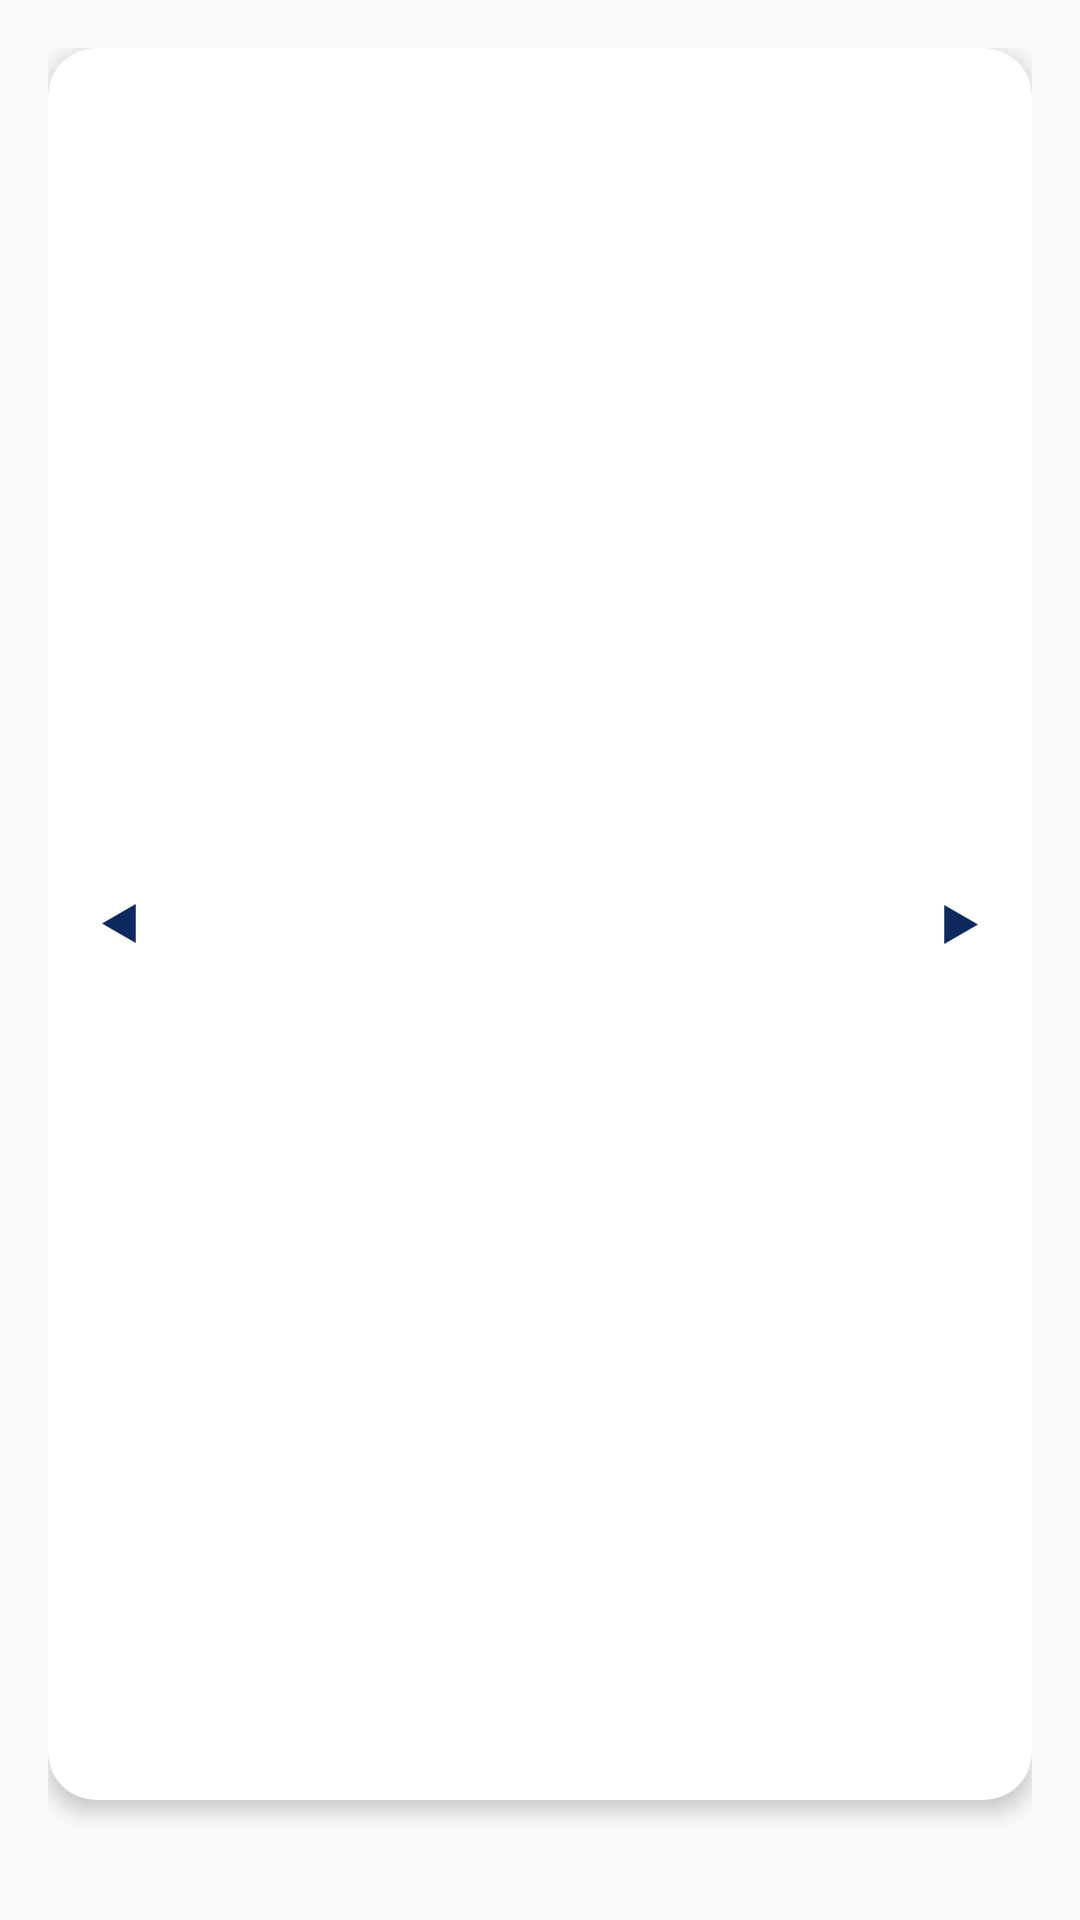

Screen size 1080w x 1920h. Icon name, then its box in pixels as [x1,y1,x2,y2]:
right arrow: [944,905,978,944]
